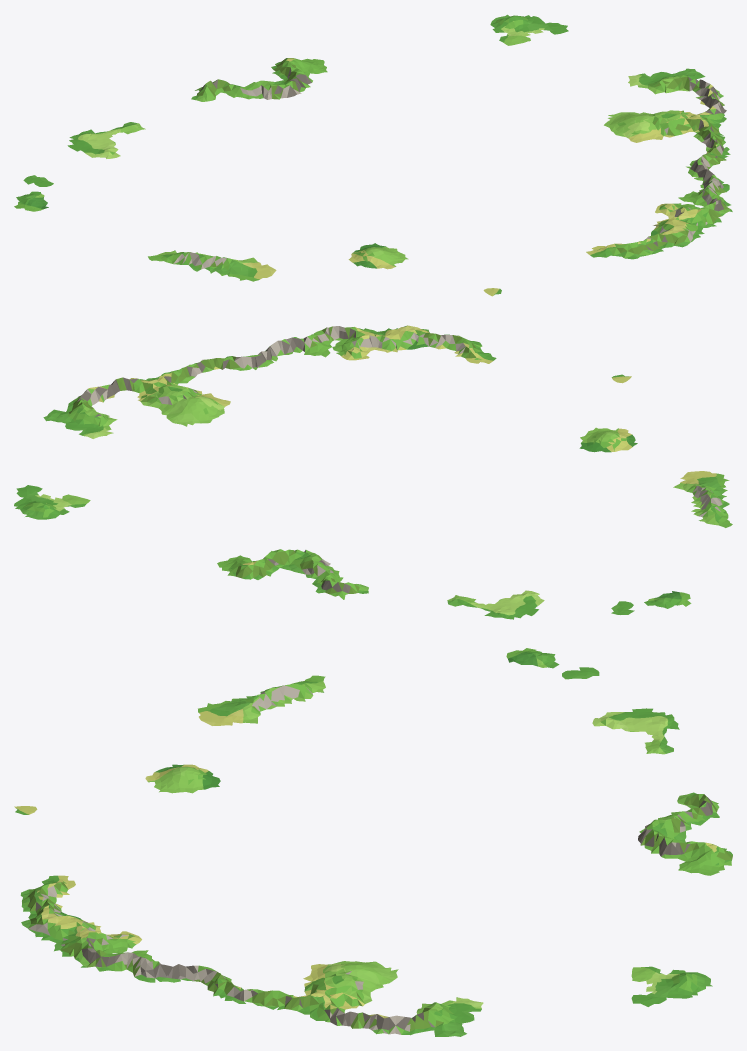
File: Isl-start1-Relief.fbx
The picture shows the model from 3 angles, top to bottom: view 1: azimuth 30°, elevation 25°; view 2: azimuth 150°, elevation 25°; view 3: azimuth 270°, elevation 25°; orthographic projection. The views are drawn at different scales.
Parts seen in each view (by area): view 1: Isl-start1-Relief-c21, Isl-start1-Relief-c22, Isl-start1-Relief-c12, Isl-start1-Relief-c11; view 2: Isl-start1-Relief-c21, Isl-start1-Relief-c22, Isl-start1-Relief-c12, Isl-start1-Relief-c11, Isl-start1-Relief-c32; view 3: Isl-start1-Relief-c21, Isl-start1-Relief-c22, Isl-start1-Relief-c12, Isl-start1-Relief-c11, Isl-start1-Relief-c32, Isl-start1-Relief-c31.
Boxes of the visible parts, x1,y1,x2,y2 form: Isl-start1-Relief-c21: (586,89,732,259); Isl-start1-Relief-c22: (271,14,704,116); Isl-start1-Relief-c12: (16,79,293,210); Isl-start1-Relief-c11: (148,243,501,296); Isl-start1-Relief-c21: (95,325,496,425); Isl-start1-Relief-c22: (14,394,305,579); Isl-start1-Relief-c12: (291,550,684,619); Isl-start1-Relief-c11: (579,374,732,527); Isl-start1-Relief-c32: (43,389,92,423); Isl-start1-Relief-c21: (20,875,391,1025); Isl-start1-Relief-c22: (389,829,732,1023); Isl-start1-Relief-c12: (506,651,719,839); Isl-start1-Relief-c11: (14,675,325,814); Isl-start1-Relief-c32: (388,1011,466,1036); Isl-start1-Relief-c31: (336,1012,389,1034).
Size of the model in its own units: 140 by 2.58 by 109.
